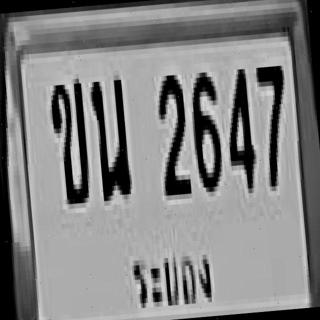A02: (48, 74, 89, 200)
A25: (88, 70, 130, 196)
N02: (153, 70, 190, 196)
N04: (221, 64, 255, 190)
N06: (186, 66, 222, 188)
N07: (254, 61, 292, 187)
P53: (126, 243, 220, 320)
